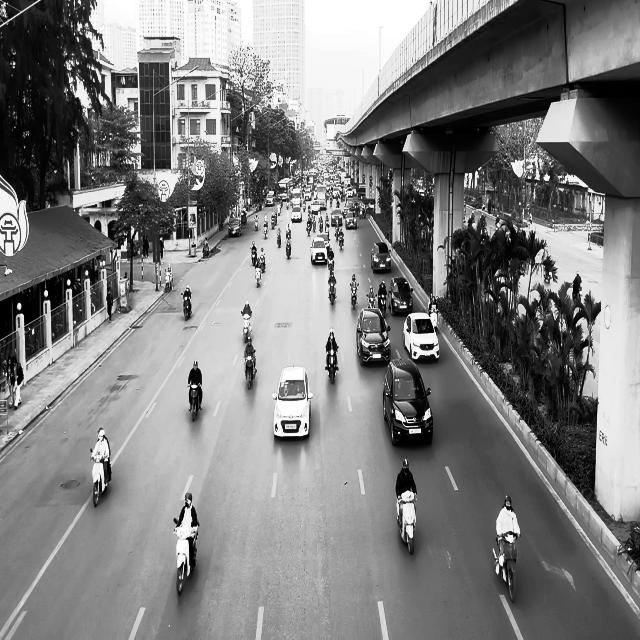car: (382, 357, 433, 446), (272, 365, 313, 439), (356, 307, 391, 366), (402, 311, 440, 362), (388, 276, 413, 315), (370, 242, 391, 272), (228, 218, 241, 237)
motorbike: (173, 516, 199, 596), (492, 532, 519, 603), (396, 491, 417, 554), (90, 446, 111, 507), (188, 383, 201, 421), (244, 350, 256, 390), (325, 347, 338, 383), (182, 292, 192, 320), (328, 276, 336, 304), (350, 284, 358, 309), (285, 235, 292, 259), (255, 264, 261, 287)
